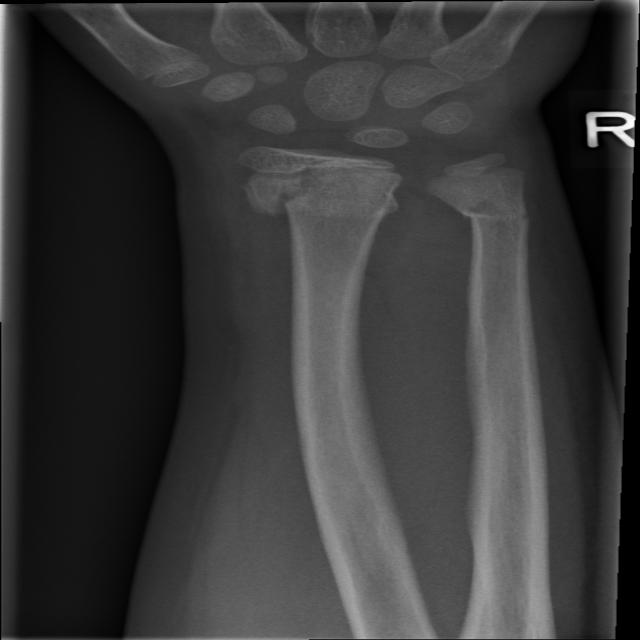radius fracture: (228, 158, 419, 259)
ulna fracture: (436, 163, 550, 276)
